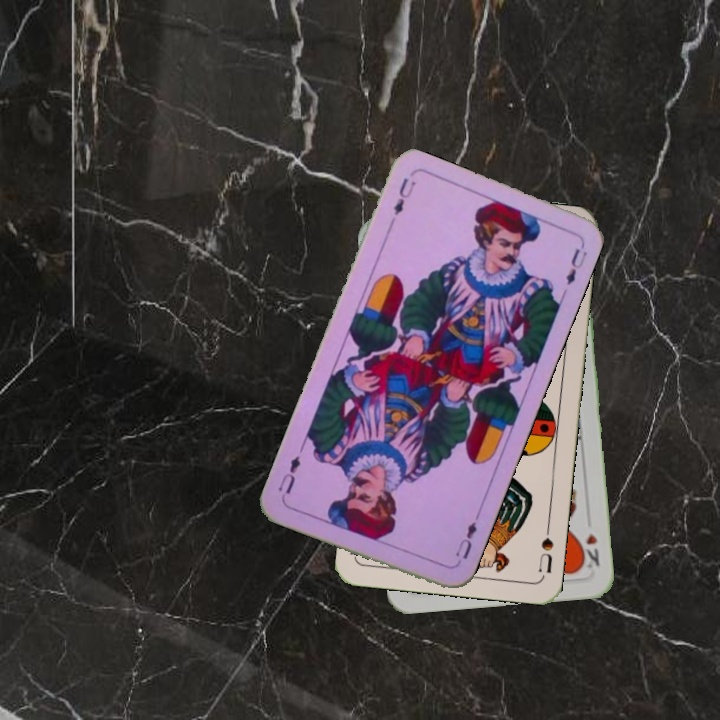EU: (385, 173, 418, 229), (451, 510, 482, 562)
HK: (576, 529, 602, 571)
SU: (534, 520, 556, 579)
